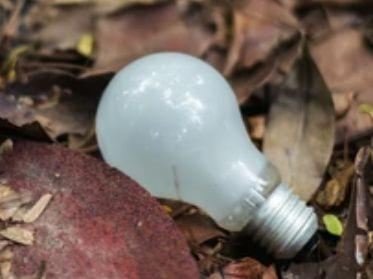light bulb: (92, 49, 323, 260)
